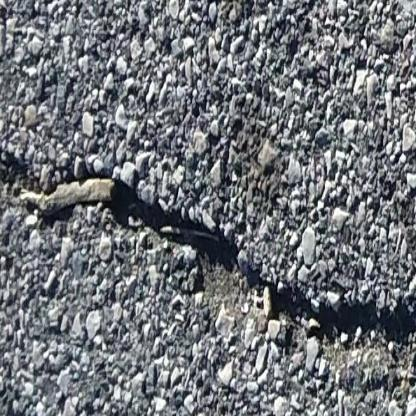Cracks: (0, 144, 416, 354)
